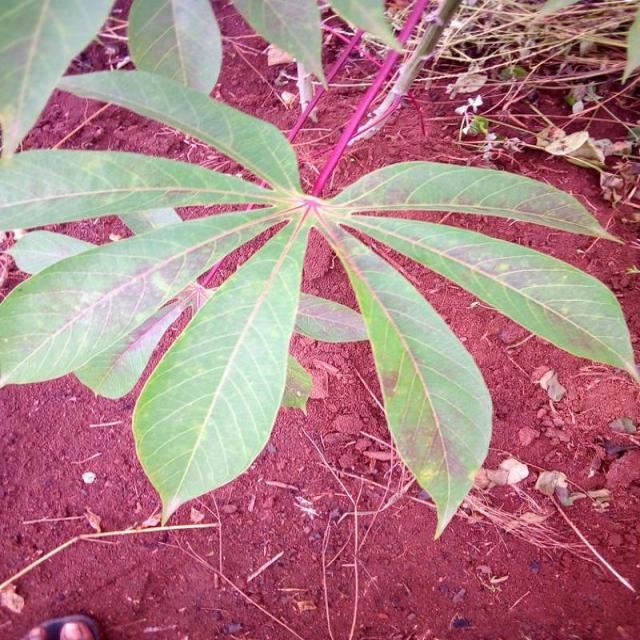cassava leaf: (1, 1, 638, 540), (131, 209, 314, 526), (327, 215, 496, 540)
